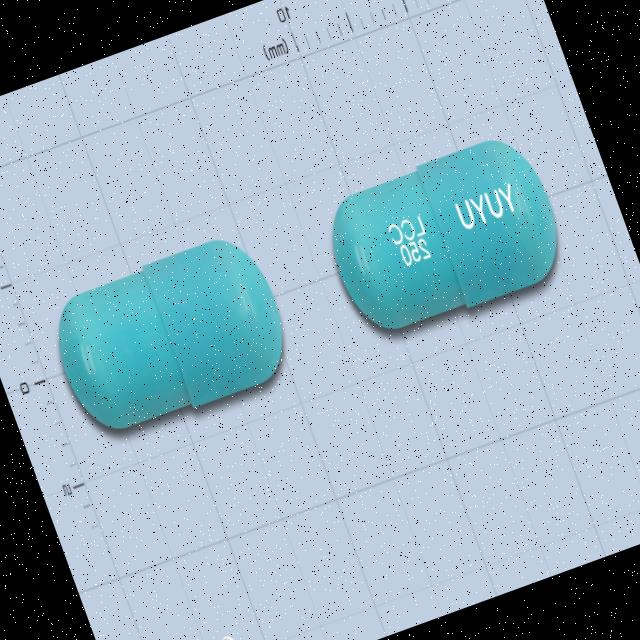Lincocin: (38, 225, 300, 448), (312, 127, 574, 346)
